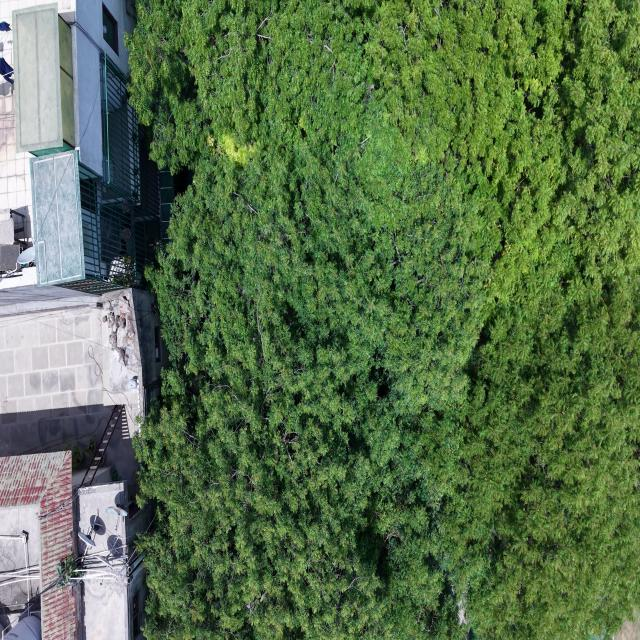ROOFTOP_BUILDING: (0, 0, 172, 538), (0, 451, 148, 639), (0, 451, 73, 605)
VEGETATION_TREE: (127, 0, 639, 639)
